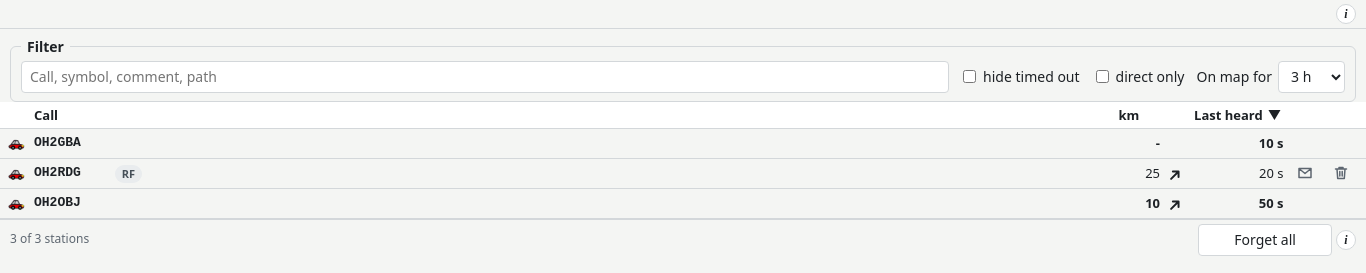
Scenario: Forget all at the foot of the Stations table › asks twice: the first press says Really forget all? and sends nothing, the second sends the command
The width and height of the screenshot is (1366, 273).
Click the button with class "forgetall": (1265, 240) x1=1198 y1=224 x2=1332 y2=256
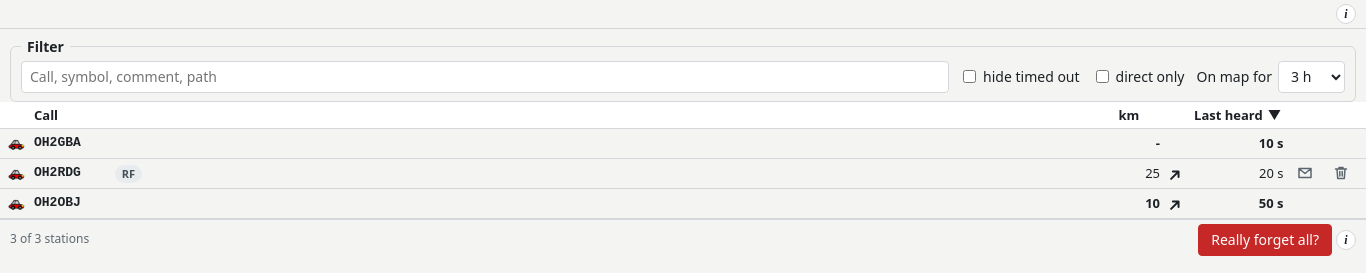
Expected: the text "Really forget all?" is shown, x1=1211 y1=230 x2=1319 y2=250
Click the button with class "forgetall": (1265, 240) x1=1198 y1=224 x2=1332 y2=256
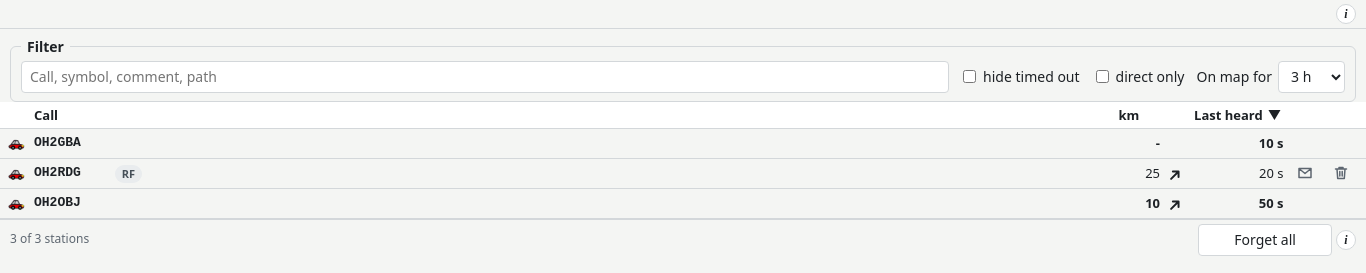
Expected: the text "Forget all" is shown, x1=1234 y1=230 x2=1296 y2=249
